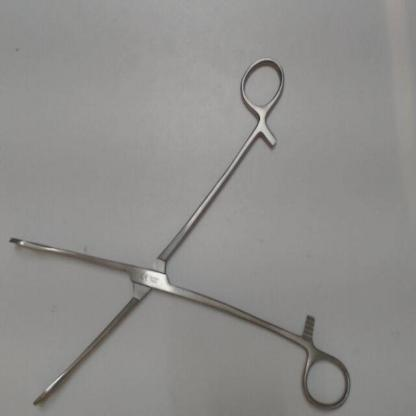Sponge Forceps: (1, 43, 353, 416)
